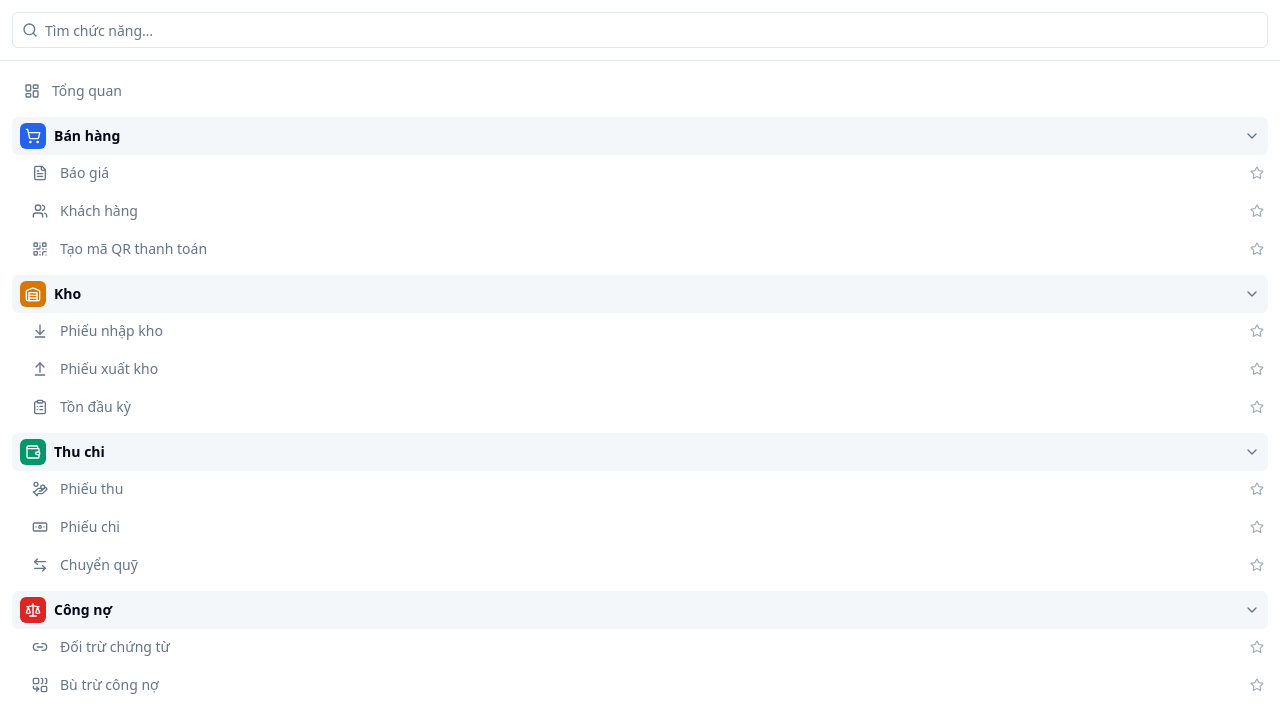
Test case: Sidebar search › filters items, hides Tổng quan and highlights the match
Type "doi tru" into the search field labelled "Tìm chức năng" at (640, 30), box [12, 12, 1268, 48]
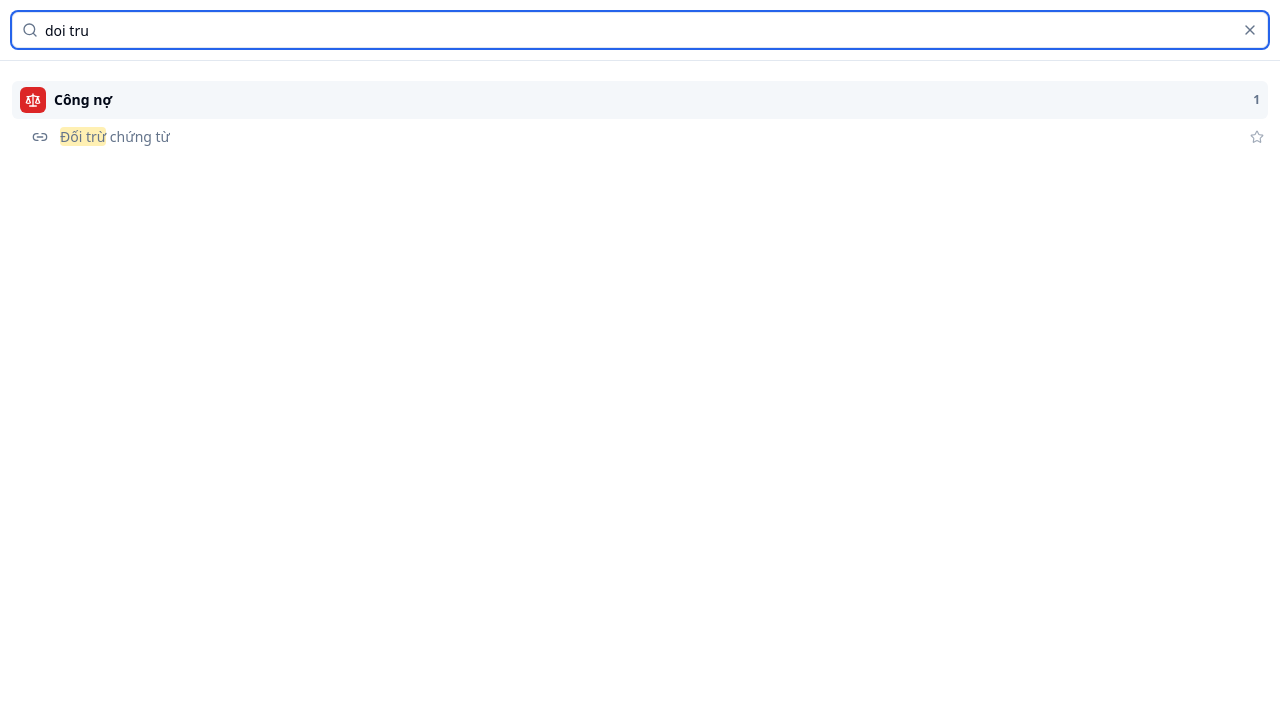
Expected: the link "Đối trừ chứng từ" is shown, [32, 127, 170, 146]
Expected: the link "Phiếu thu" is gone
Expected: the link "Tổng quan" is gone
